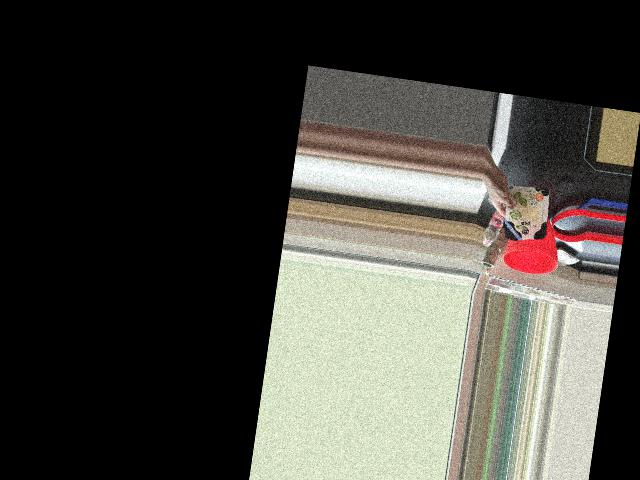cheese: (491, 186, 551, 245)
